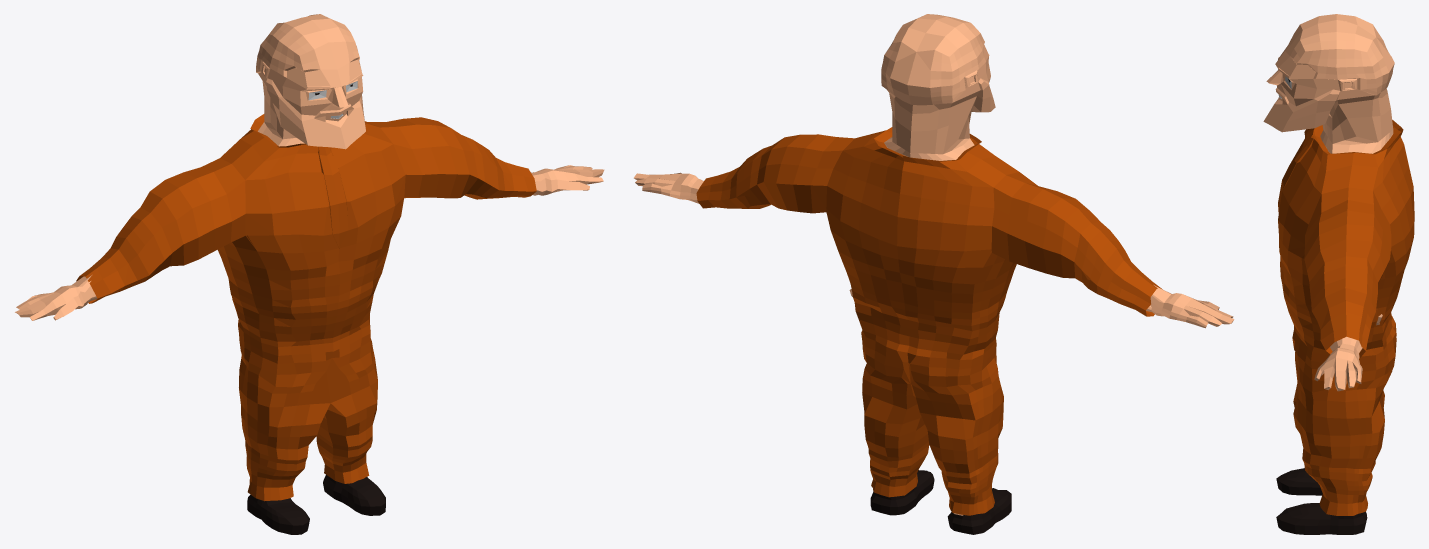
The model's file is zatovrenik 4.fbx.
The picture shows the model from 3 angles, left to right: view 1: azimuth 30°, elevation 25°; view 2: azimuth 150°, elevation 25°; view 3: azimuth 270°, elevation 25°; orthographic projection.
Parts seen in each view (by area): view 1: ROBA.007, LIK1.008; view 2: ROBA.007, LIK1.008; view 3: ROBA.007, LIK1.008.
Part boxes in pixels (box(x1,y1,x2,y2)): ROBA.007: box(76, 114, 536, 501); LIK1.008: box(15, 14, 604, 534); ROBA.007: box(696, 127, 1162, 515); LIK1.008: box(634, 14, 1234, 534); ROBA.007: box(1278, 120, 1414, 515); LIK1.008: box(1263, 14, 1394, 534).
Bounding box in the file's own units: 1324 × 1043 × 293.
